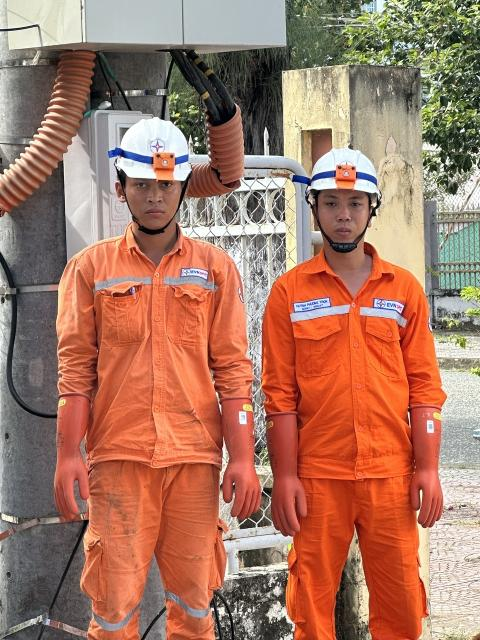gloves: (41, 392, 102, 525), (403, 404, 457, 534), (264, 400, 308, 552), (215, 388, 262, 526)
helmet: (108, 108, 202, 200), (293, 138, 387, 208)
